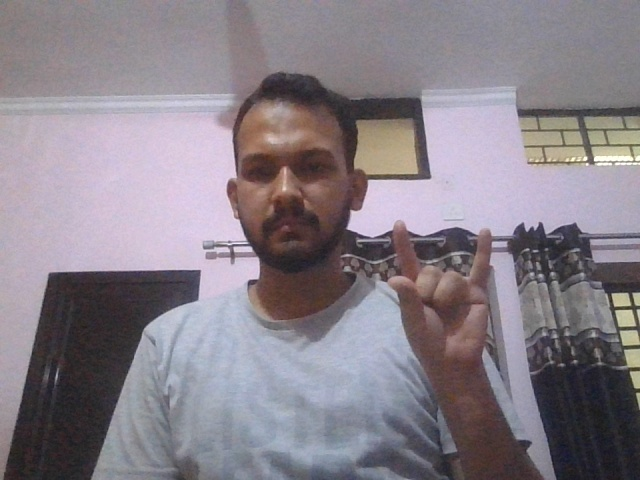iloveyou: (387, 221, 492, 364)
